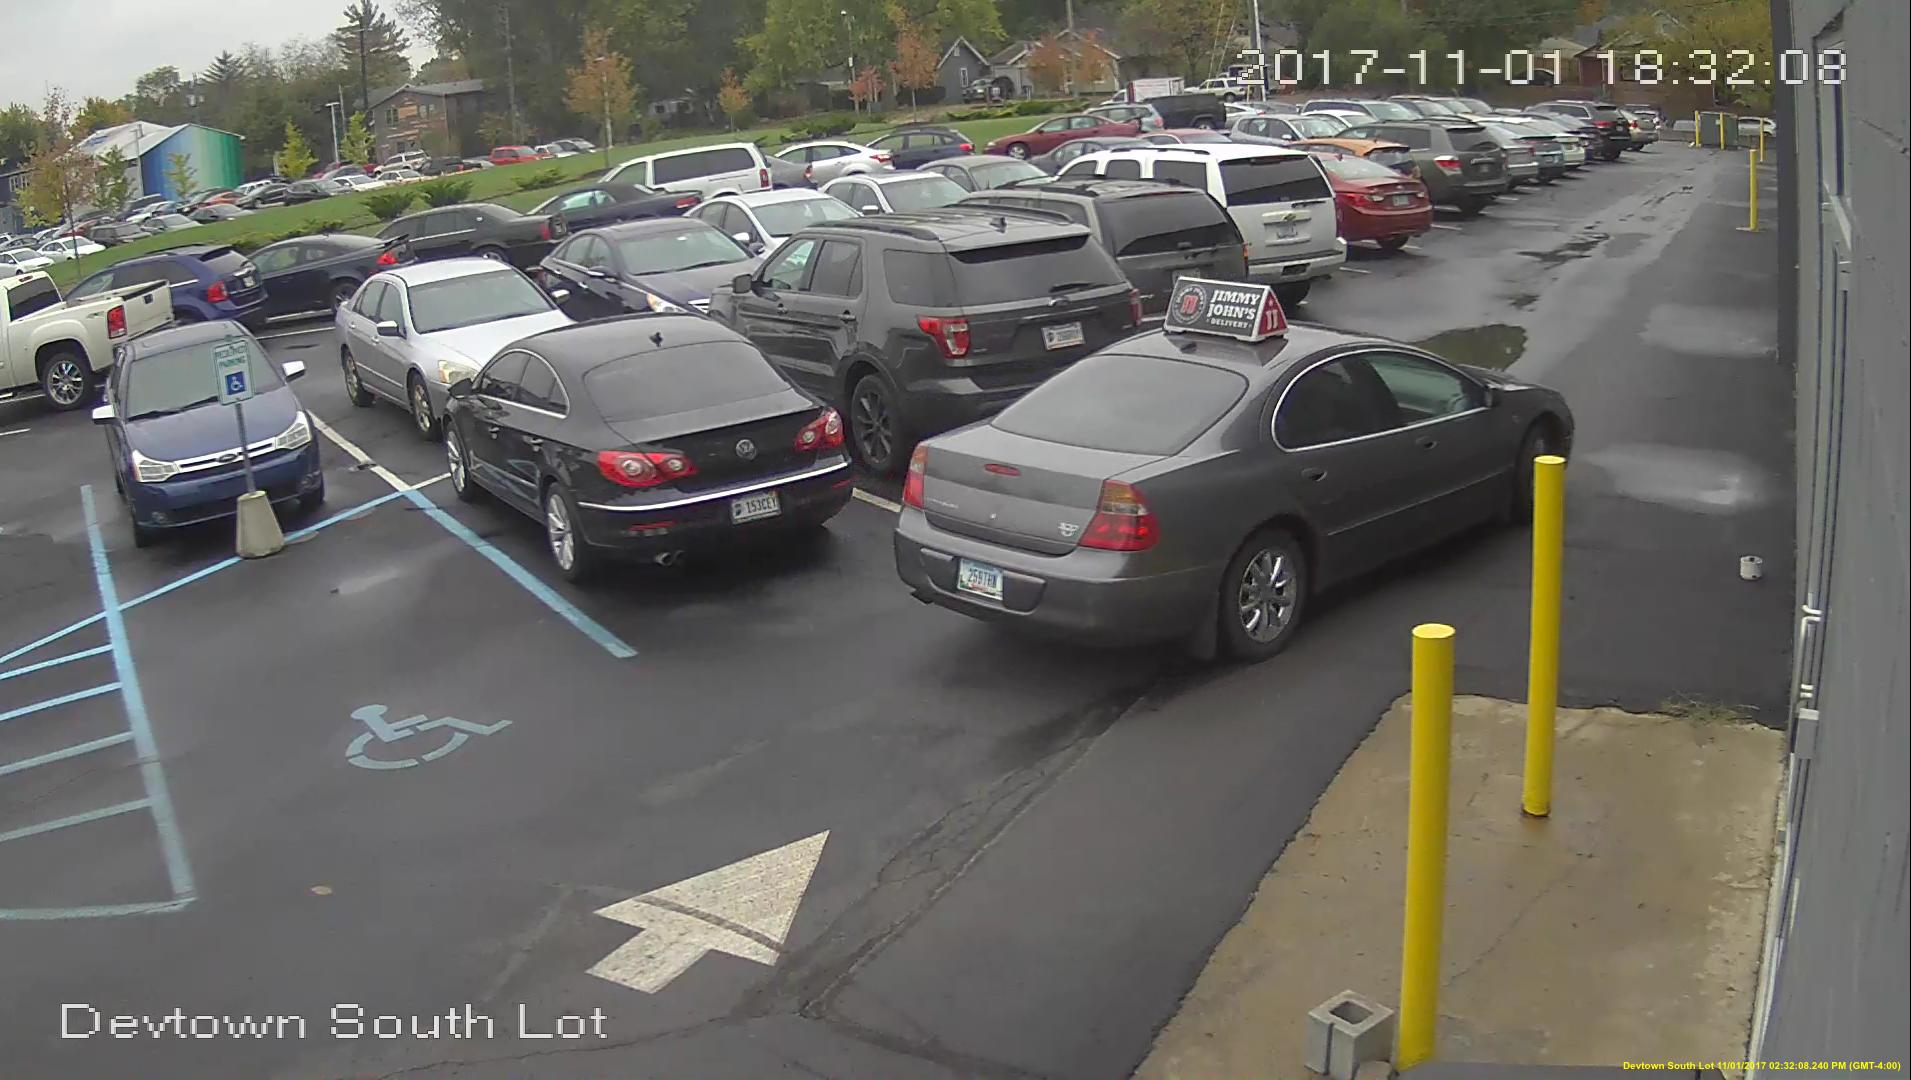jimmy_johns: (1162, 272, 1291, 344)
